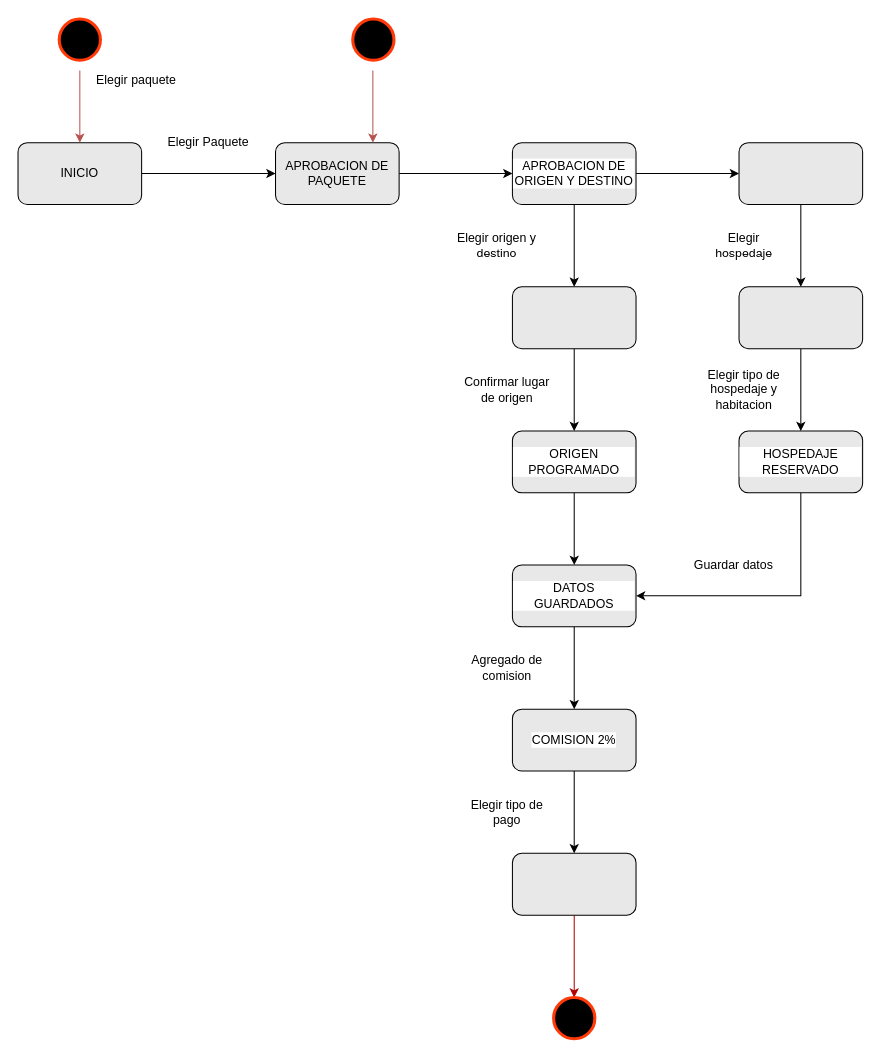
Some shapes in this 881 by 1058 pixel diagram are drawn without their labels. The box of each missing label's shape, as (x1, y1, x2, y2) in pixels:
ACEPTACION PENDIENTE: (738, 286, 863, 349)
APROBACION DE HOSPEDAJE: (738, 142, 863, 204)
FORMA DE PAGO: (511, 852, 636, 915)
ORIGEN PENDIENTE: (511, 286, 636, 349)
